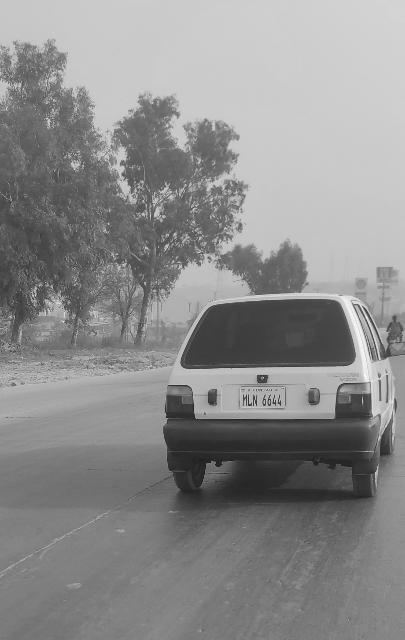Number: (240, 390, 286, 408)
